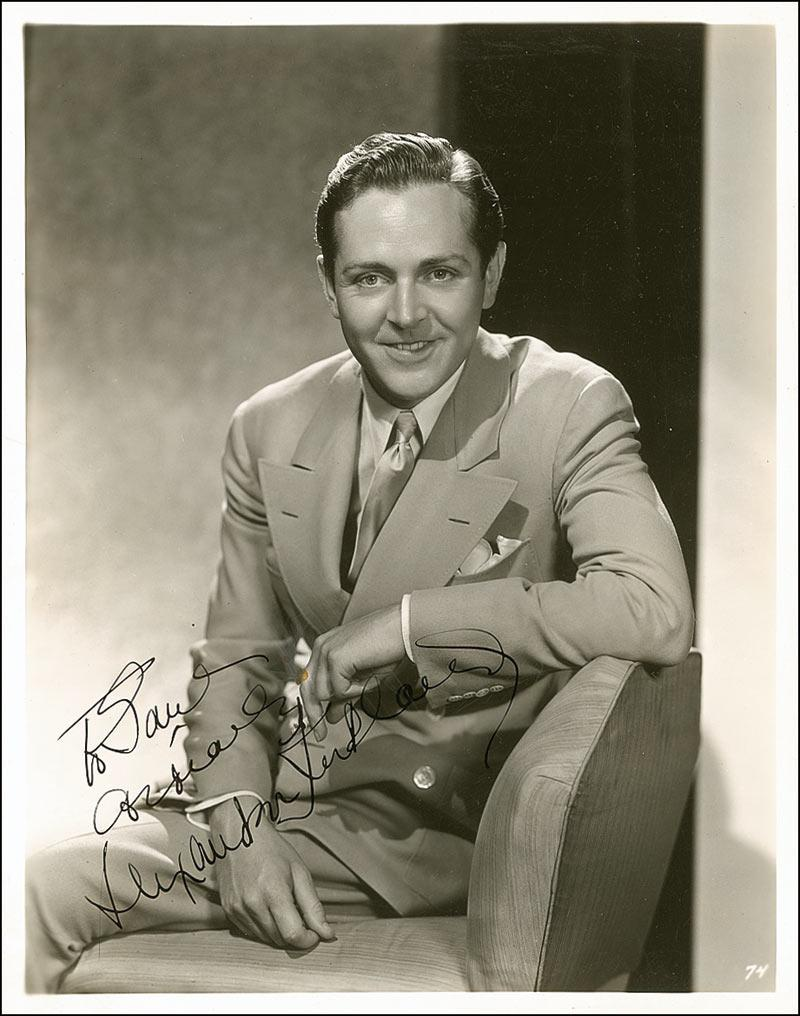bad: (322, 236, 476, 391)
